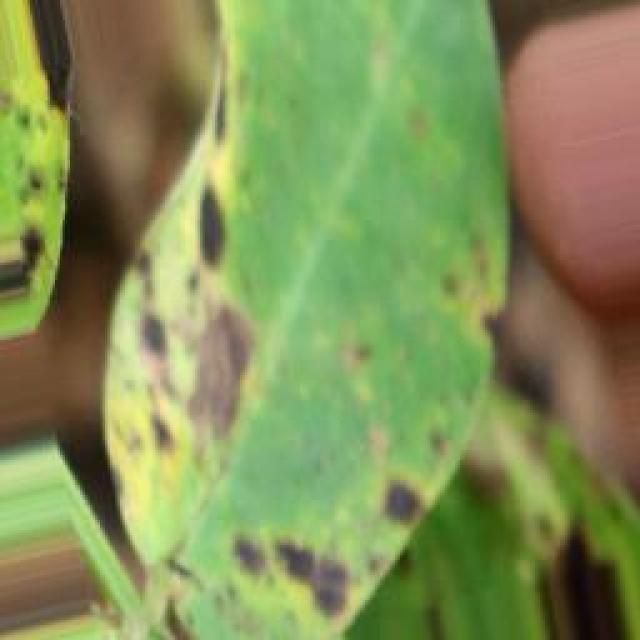Yellowish: (6, 43, 549, 638)
